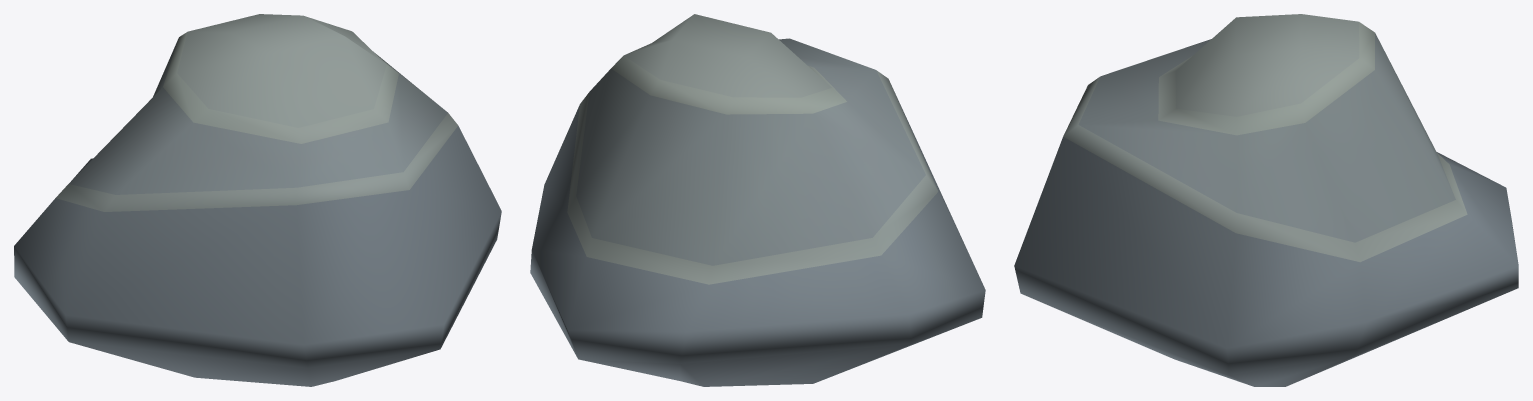
File: iro_ore_S.fbx
3 views of the same model, side by side, from view 1: azimuth 30°, elevation 25°; view 2: azimuth 150°, elevation 25°; view 3: azimuth 270°, elevation 25° (orthographic). The views are drawn at different scales.
Visible parts, largest first — view 1: iro_ore_S; view 2: iro_ore_S; view 3: iro_ore_S.
Part boxes in pixels (x1=…): iro_ore_S: x1=14, y1=14, x2=501, y2=386; iro_ore_S: x1=530, y1=14, x2=985, y2=386; iro_ore_S: x1=1014, y1=14, x2=1518, y2=386.
Bounding box in the file's own units: 33.88 × 23.28 × 32.86.
Materials: 1 (1 with a texture image).
